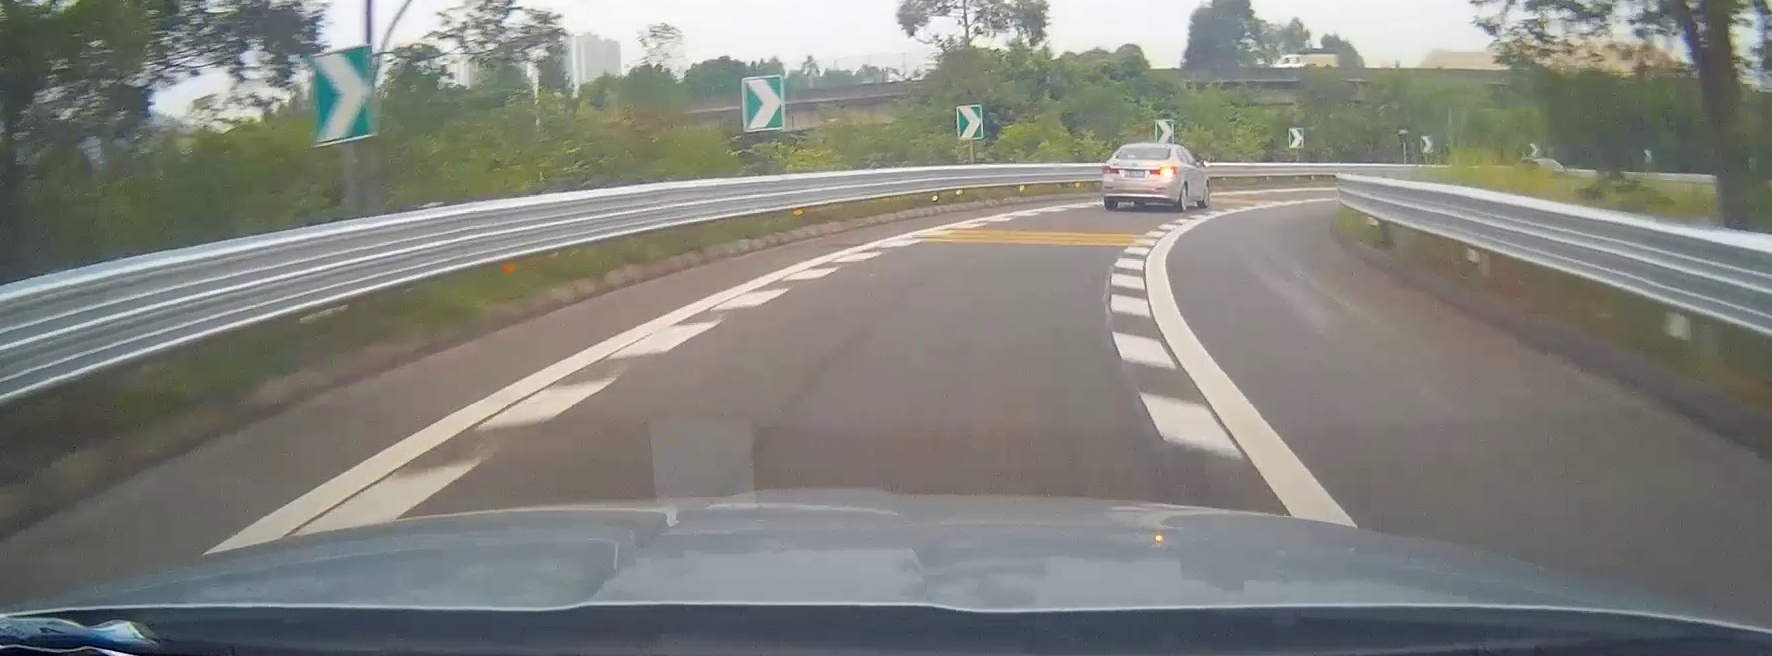L_light: (1102, 166, 1120, 174)
R_light: (1150, 166, 1178, 175)
T_light: (1139, 145, 1152, 148)
day-right: (1102, 143, 1182, 212)
